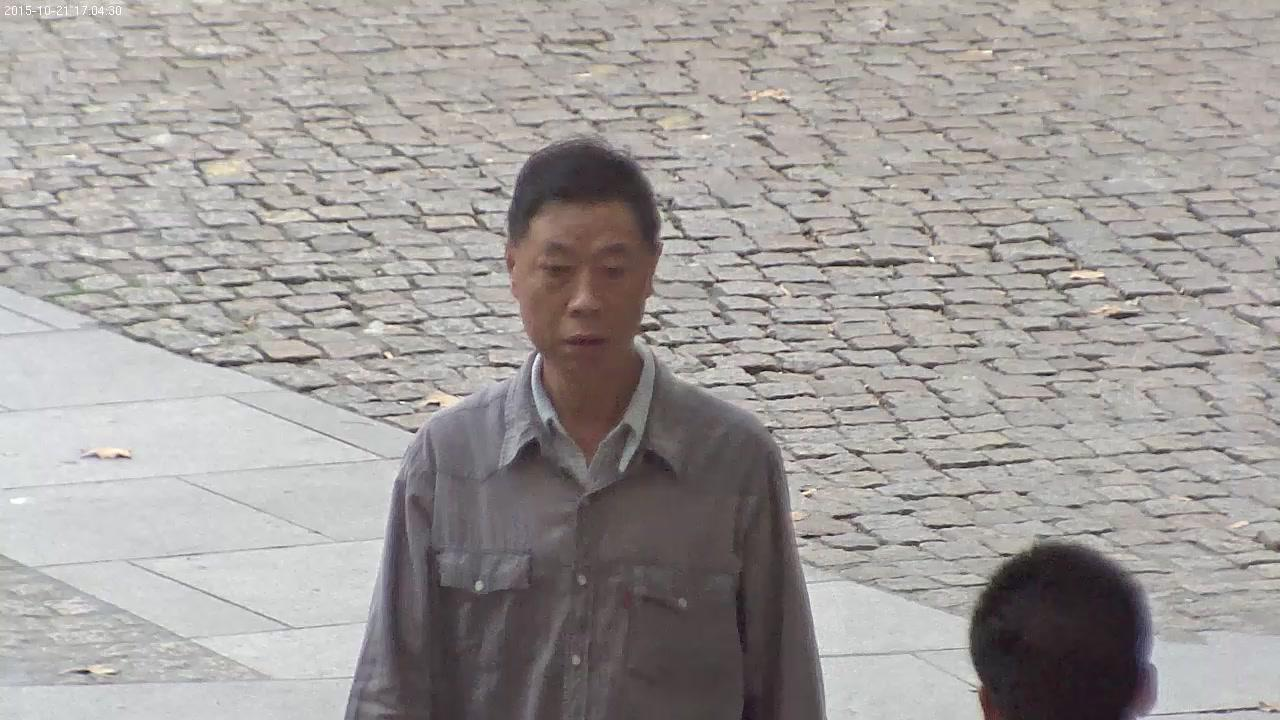person: (343, 135, 827, 720)
